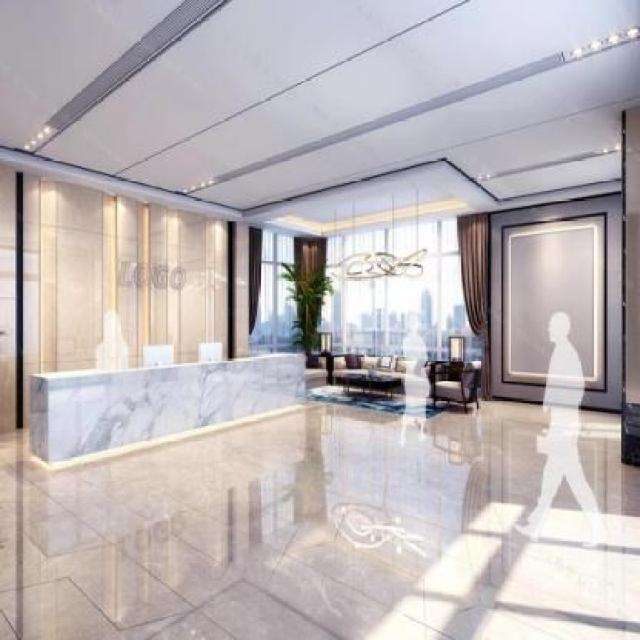frontdesk: (18, 342, 312, 476)
